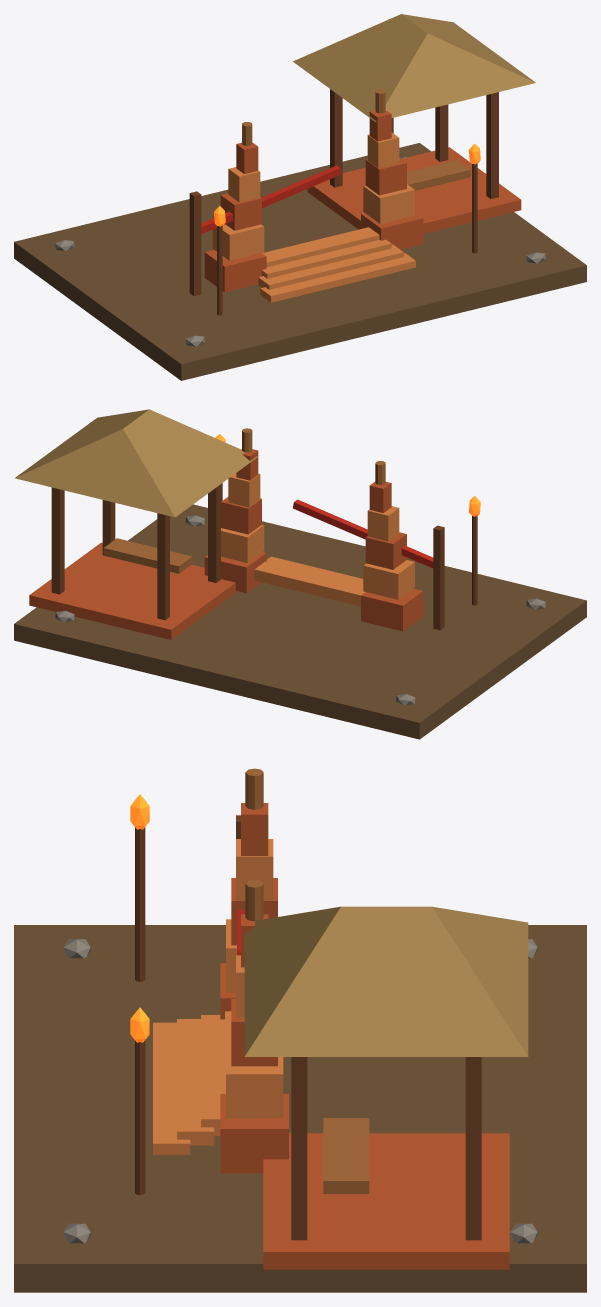
Rendered from village_gate_guard_post.glb.
The picture shows the model from 3 angles, top to bottom: view 1: azimuth 30°, elevation 25°; view 2: azimuth 150°, elevation 25°; view 3: azimuth 270°, elevation 25°; orthographic projection. The views are drawn at different scales.
Parts seen in each view (by area): view 1: Building_Base, GuardPostRoof, GuardPostFloor, GateStep, GateStep.003, GateStep.001, GateLeftTier, GateStep.002, GateRightTier.001, GateRightTier, GateLeftTier.001, GuardPostPost.002 (+13 smaller); view 2: Building_Base, GuardPostRoof, GuardPostFloor, GateStep.003, GateLeftTier, GateLeftTier.001, GuardPostPost.003, GuardDesk, GuardPostPost.001, GateRightTier.001, BarrierPole, BarrierArm (+10 smaller); view 3: Building_Base, GuardPostRoof, GuardPostFloor, GateRightTier, GuardDesk, GateStep, GateRightTier.001, GateStep.001, GuardPostPost.002, GuardPostPost.003, GateStep.002, TorchPost (+7 smaller).
Part boxes in pixels (box(x1,y1,x2,y2)): Building_Base: box(14, 143, 586, 380); GuardPostRoof: box(293, 14, 535, 121); GuardPostFloor: box(307, 147, 521, 233); GateStep: box(260, 253, 415, 302); GateStep.003: box(262, 227, 379, 267); GateStep.001: box(258, 244, 403, 289); GateLeftTier: box(204, 250, 266, 292); GateStep.002: box(261, 239, 391, 278); GateRightTier.001: box(363, 184, 414, 223); GateRightTier: box(361, 212, 423, 249); GateLeftTier.001: box(212, 224, 264, 260); GuardPostPost.002: box(486, 92, 498, 198); Building_Base: box(14, 504, 586, 739); GuardPostRoof: box(15, 409, 257, 517); GuardPostFloor: box(29, 542, 237, 639); GateStep.003: box(254, 561, 365, 606); GateLeftTier: box(361, 588, 423, 631); GateLeftTier.001: box(363, 560, 414, 599); GuardPostPost.003: box(51, 487, 64, 594); GuardDesk: box(103, 538, 192, 573); GuardPostPost.001: box(157, 513, 169, 620); GateRightTier.001: box(221, 524, 264, 562); BarrierPole: box(433, 525, 444, 630); BarrierArm: box(293, 499, 433, 568); Building_Base: box(14, 925, 586, 1292); GuardPostRoof: box(244, 906, 528, 1056); GuardPostFloor: box(263, 1133, 509, 1269); GateRightTier: box(220, 1094, 288, 1173); GuardDesk: box(323, 1118, 369, 1193); GateStep: box(153, 1022, 190, 1154); GateRightTier.001: box(226, 1045, 283, 1118); GateStep.001: box(177, 1019, 214, 1145); GuardPostPost.002: box(291, 1057, 307, 1240); GuardPostPost.003: box(465, 1057, 481, 1240); GateStep.002: box(201, 1015, 224, 1135); TorchPost: box(135, 827, 145, 981).
Bounding box in the file's own units: 14.58 × 6.4 × 10.
